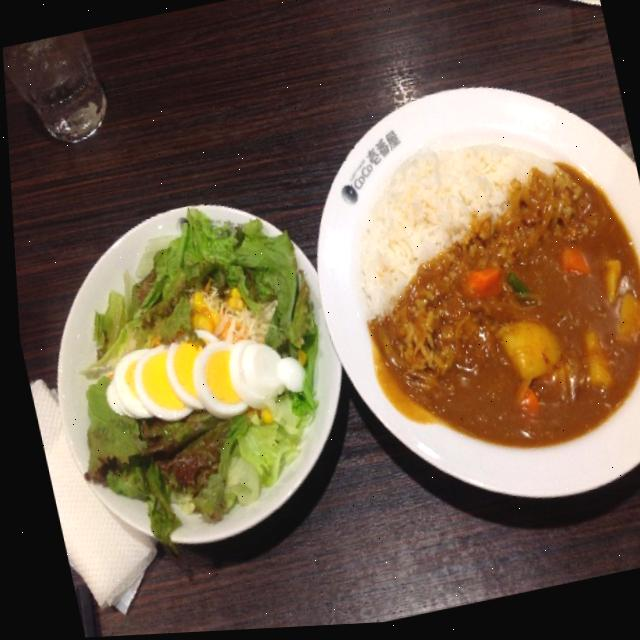牛肉菜式: (277, 45, 640, 544)
蔬菜料理: (9, 169, 373, 581)
